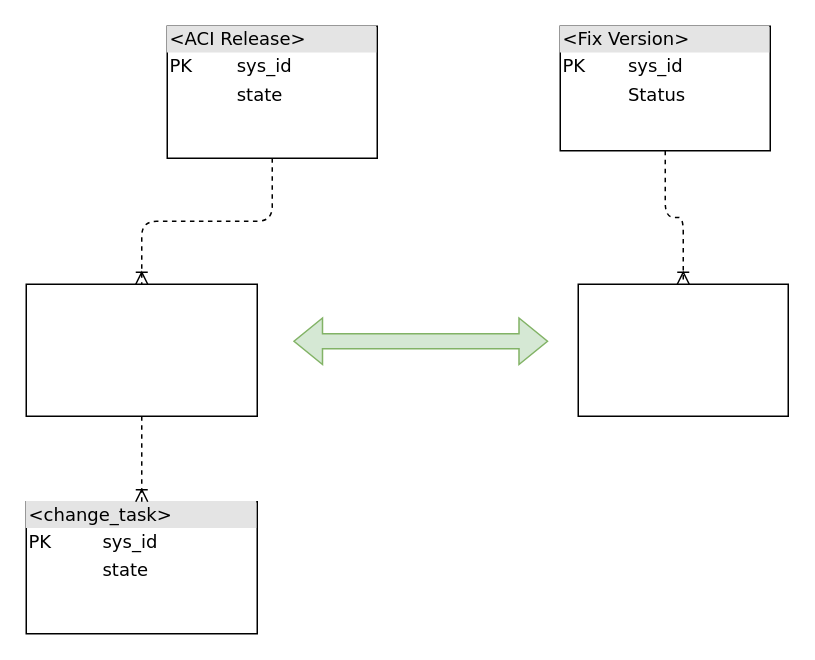
Image size: 815x660. Some labels were removed from this diagram. The centre of each missing label's shape, as x and y in pixels:
"<change_request> PK sys_id state" goes at (x=141, y=349).
"<jira_ticket> PK sys_id Status" goes at (x=682, y=349).
